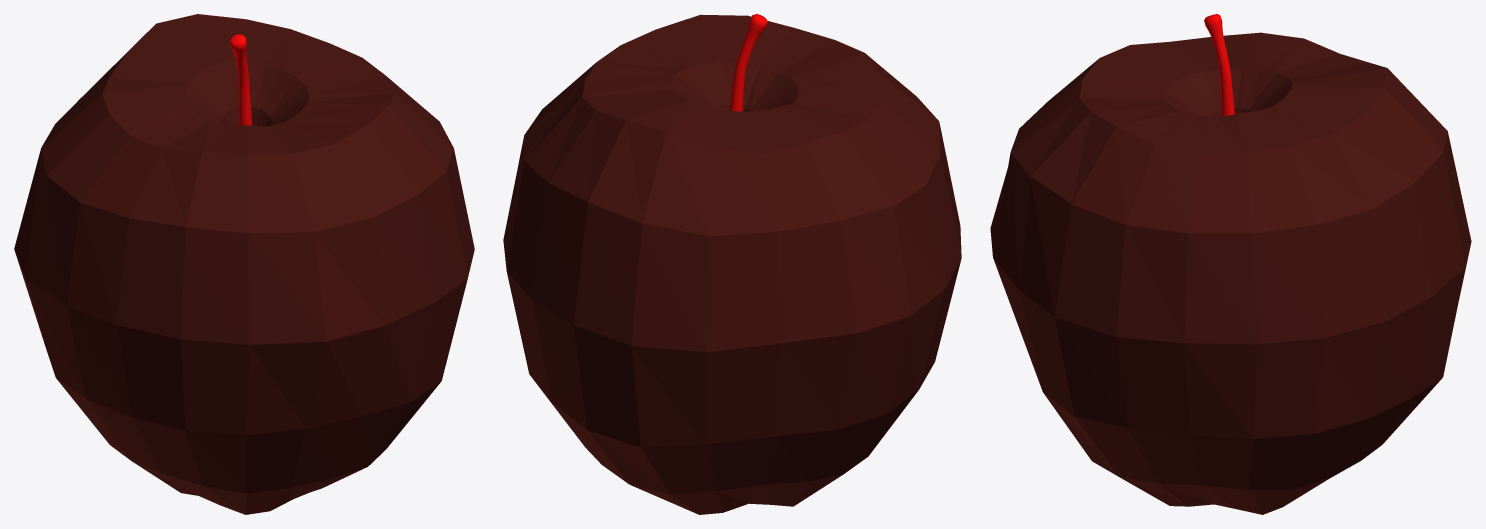
The model's file is Apple.fbx.
The picture shows the model from 3 angles, left to right: view 1: azimuth 30°, elevation 25°; view 2: azimuth 150°, elevation 25°; view 3: azimuth 270°, elevation 25°; orthographic projection. The views are drawn at different scales.
Parts seen in each view (by area): view 1: Apple_2, Stem; view 2: Apple_2, Stem; view 3: Apple_2, Stem.
Part boxes in pixels (left/top/right/bottom): Apple_2: left=14, top=14, right=474, bottom=514; Stem: left=230, top=34, right=252, bottom=125; Apple_2: left=503, top=14, right=961, bottom=514; Stem: left=729, top=14, right=767, bottom=111; Apple_2: left=990, top=32, right=1471, bottom=514; Stem: left=1204, top=14, right=1234, bottom=116.
Bounding box in the file's own units: 8.14 × 9.18 × 8.64.
